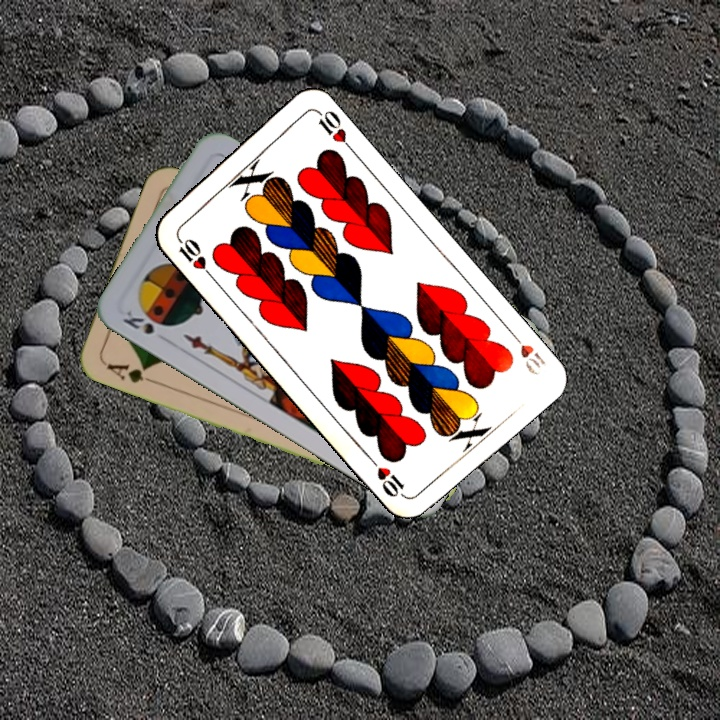GA: (101, 358, 159, 386)
H10: (505, 326, 548, 378), (171, 231, 215, 280)
SK: (118, 305, 157, 337)
